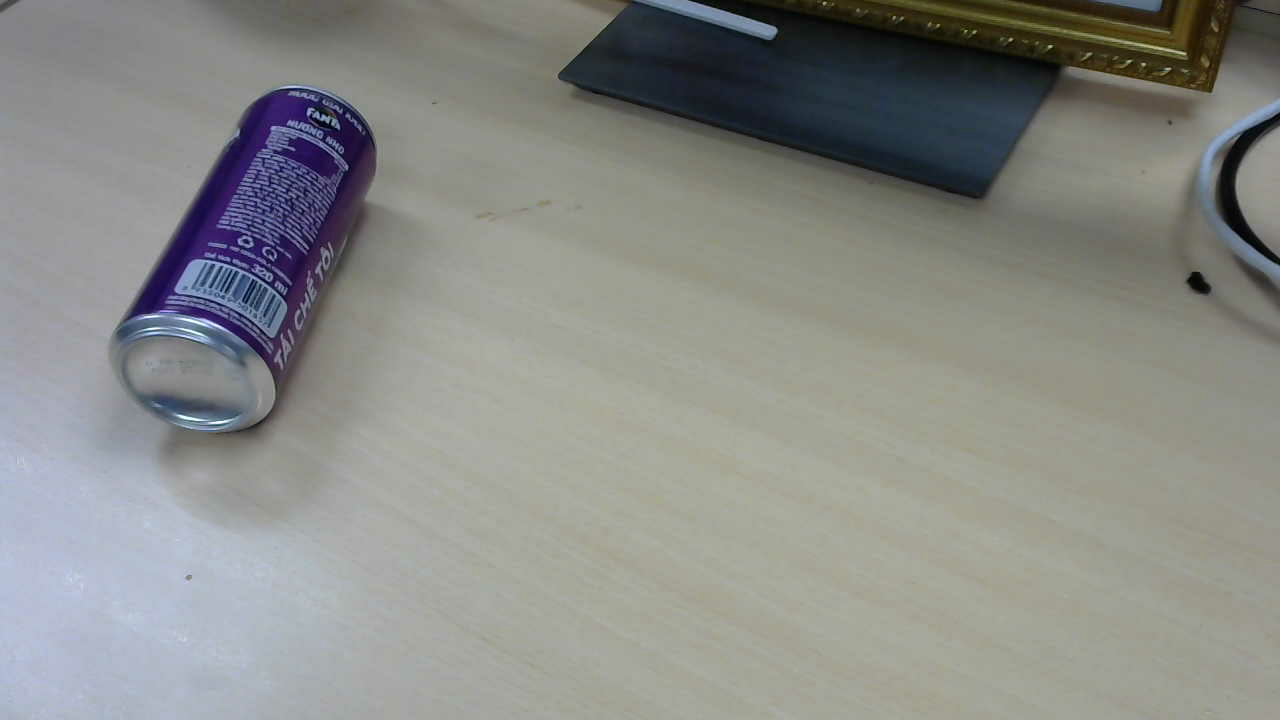Fanta: (112, 87, 385, 438)
